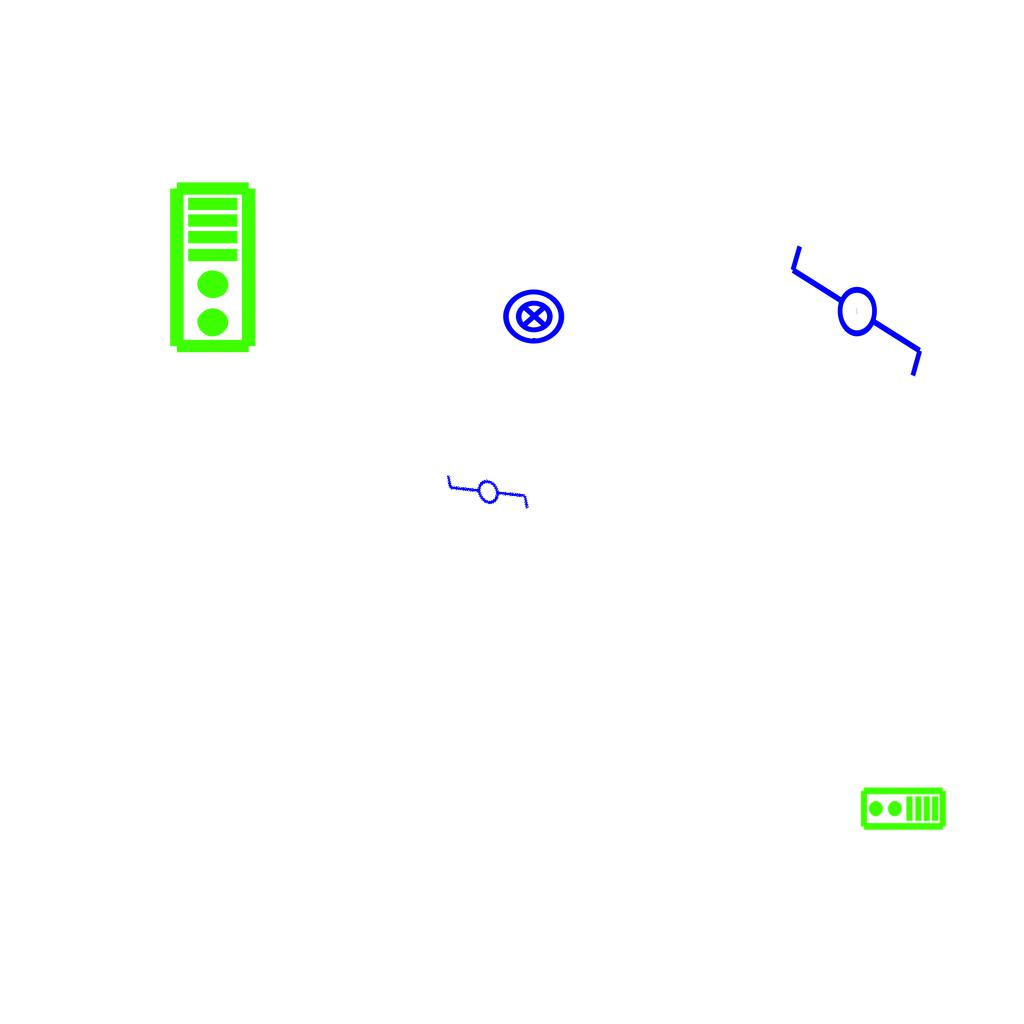Gegensprechanlage_mit_Video: (167, 180, 262, 356), (859, 786, 947, 833)
Taster_beleuchtet: (501, 283, 567, 349)
Wechselschalter: (783, 241, 927, 398), (439, 445, 539, 547)
